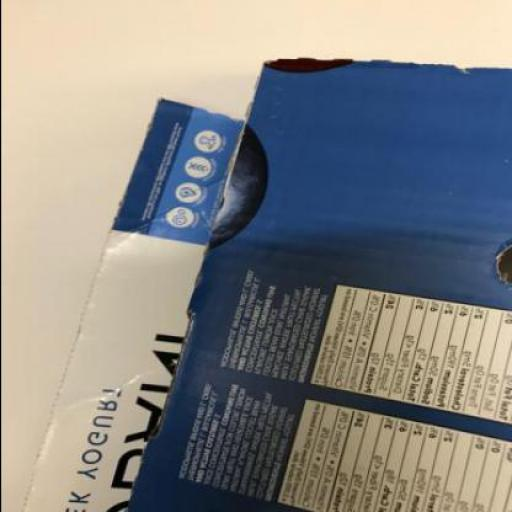cardboard: (18, 58, 511, 512)
